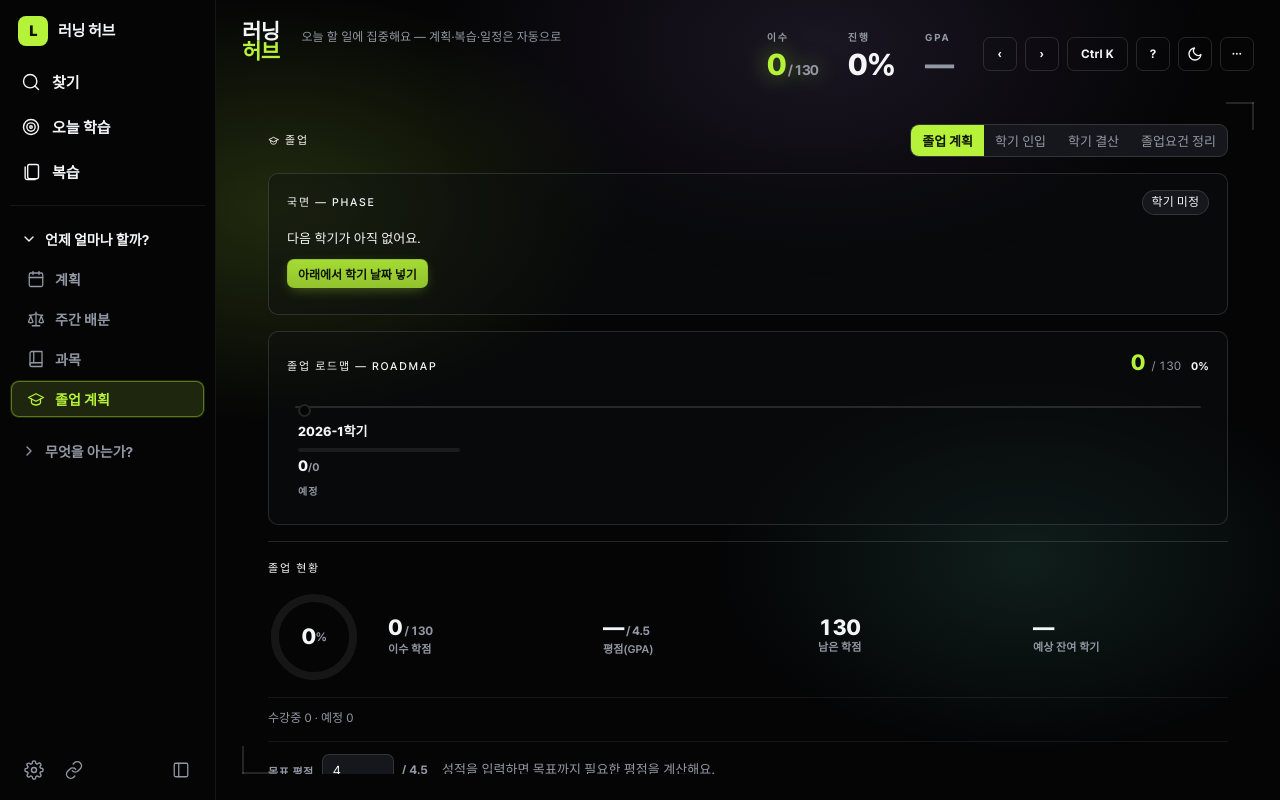
Test case: 졸업요건 정리: 과목이 하나도 없으면 EmptyState로 안내
This screenshot has width=1280, height=800.
Click the button "졸업요건 정리".
click(1179, 140)  # box [1130,125,1227,156]
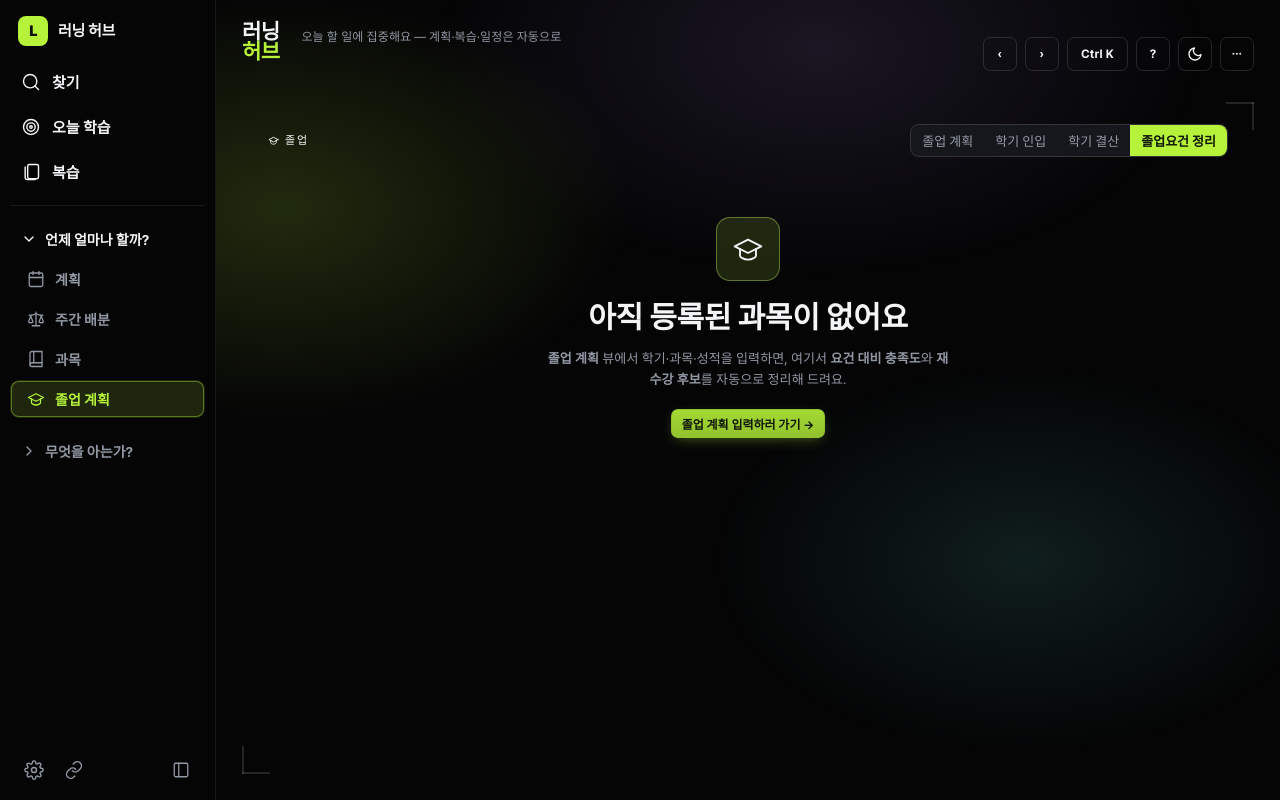
Now the heading "아직 등록된 과목이 없어요" is shown, box [588,293,908,341]
